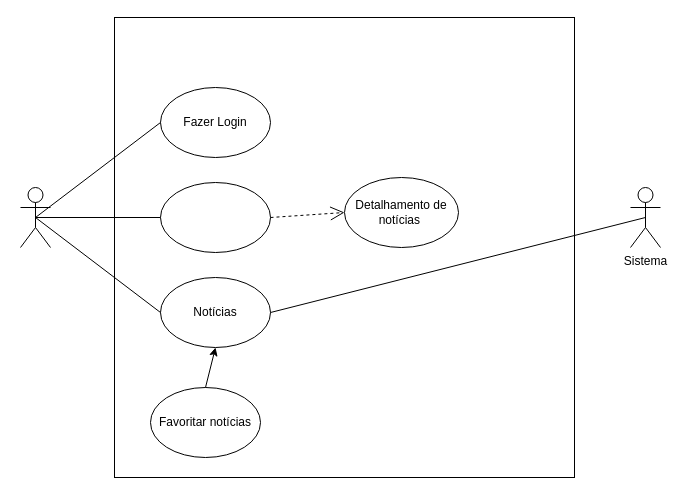
Image size: 684x495. Some labels were removed from this diagram. Here are the shapes that lost their labels. From the top down, the box of each, then its label:
(20, 186, 50, 248): Cliente
(160, 182, 270, 252): Filtros personalizados
